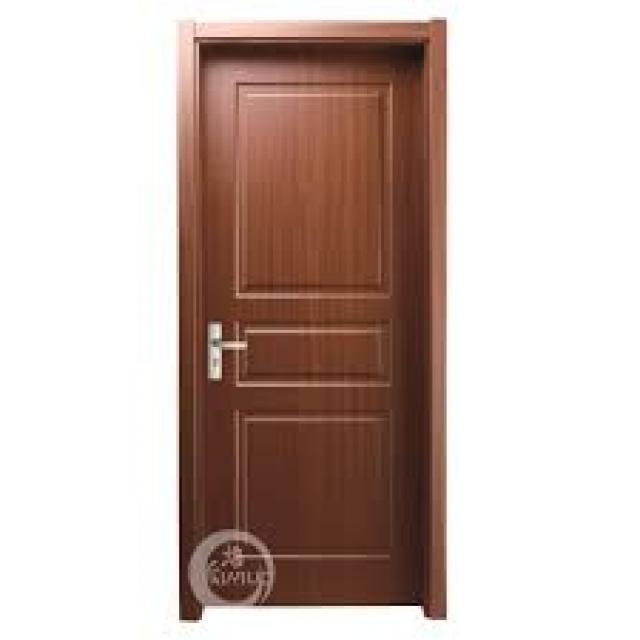door: (190, 32, 438, 624)
